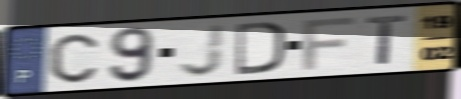9: (105, 26, 157, 84)
C: (47, 32, 100, 85)
D: (234, 19, 288, 77)
F: (301, 15, 357, 71)
J: (176, 22, 227, 79)
T: (364, 13, 410, 67)
